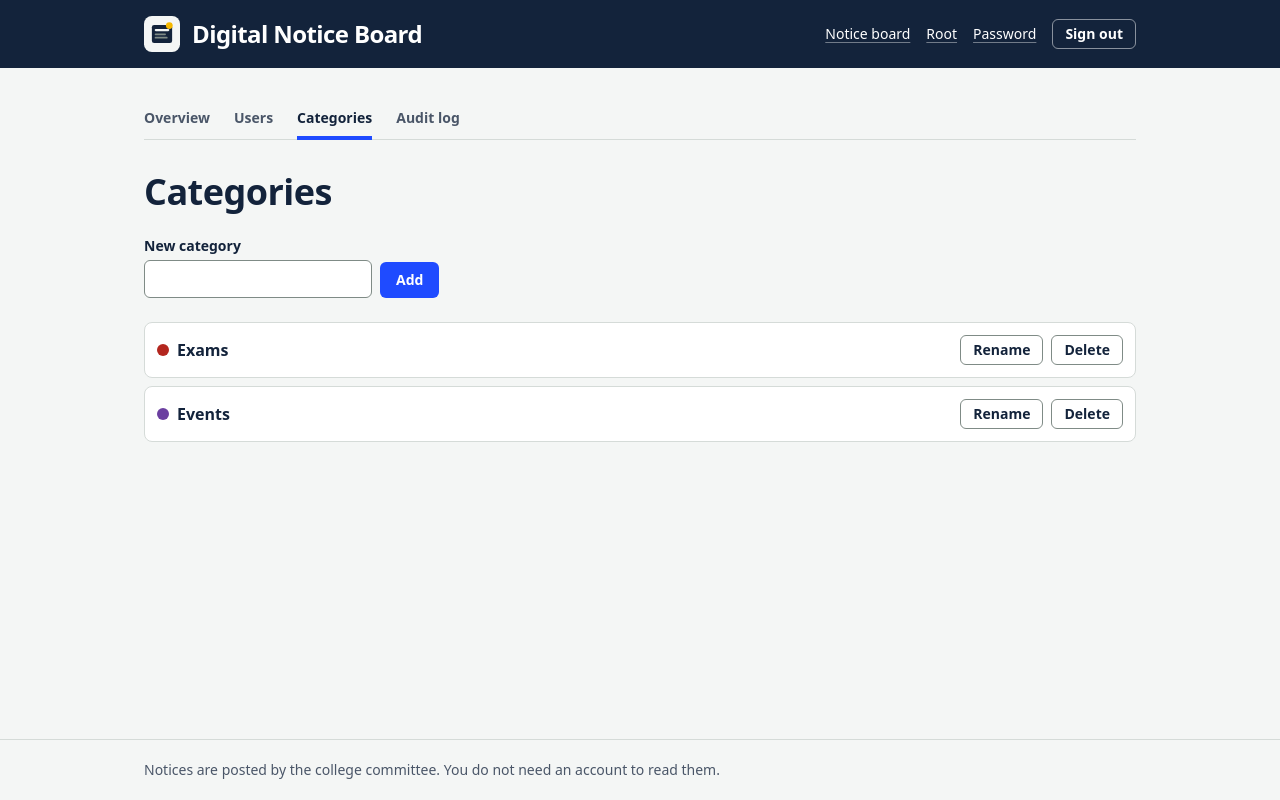
Test: categories page › shows the server's message for a duplicate name and keeps what was typed
Check: the text "Exams" is shown, box [157, 338, 228, 362]
Type "exams" into the field labelled "New category".
click(258, 279); type("exams")  # box [144, 260, 372, 298]
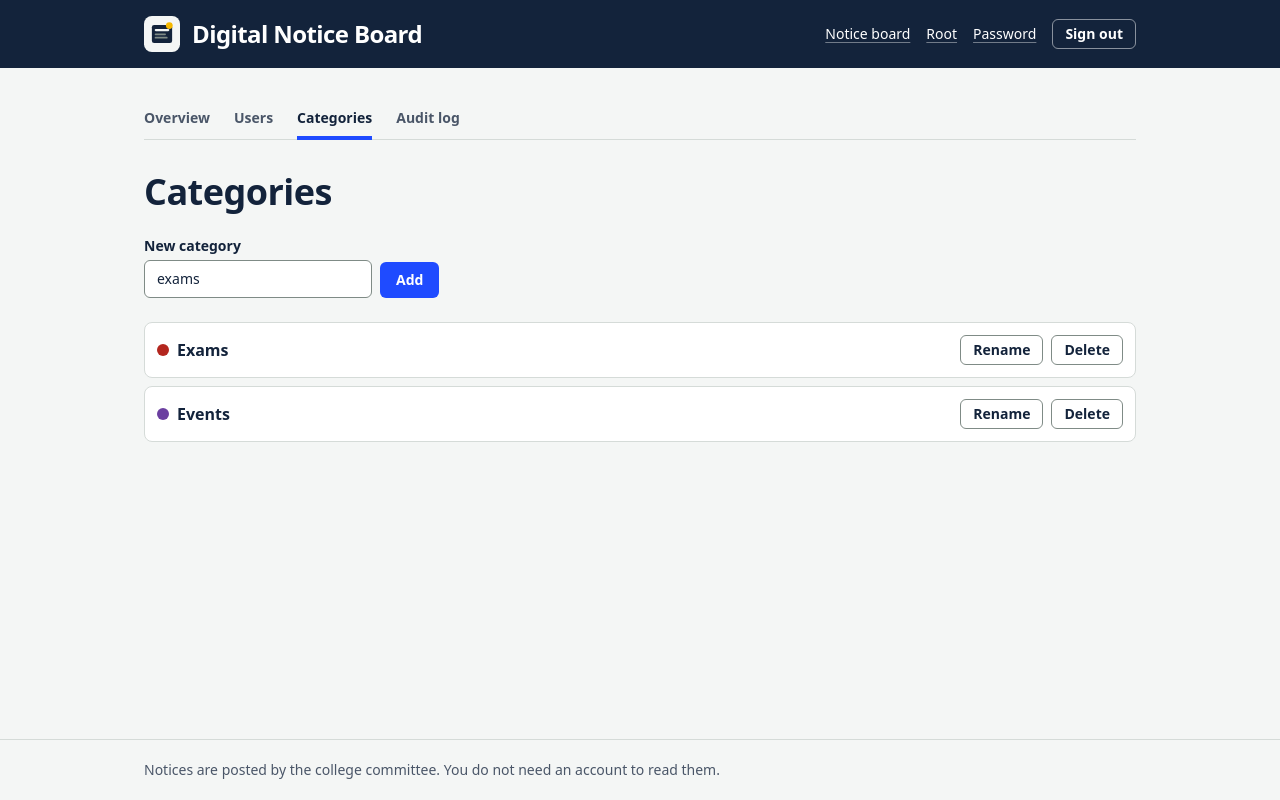
Submit the form named "Add category", box [144, 236, 439, 298]
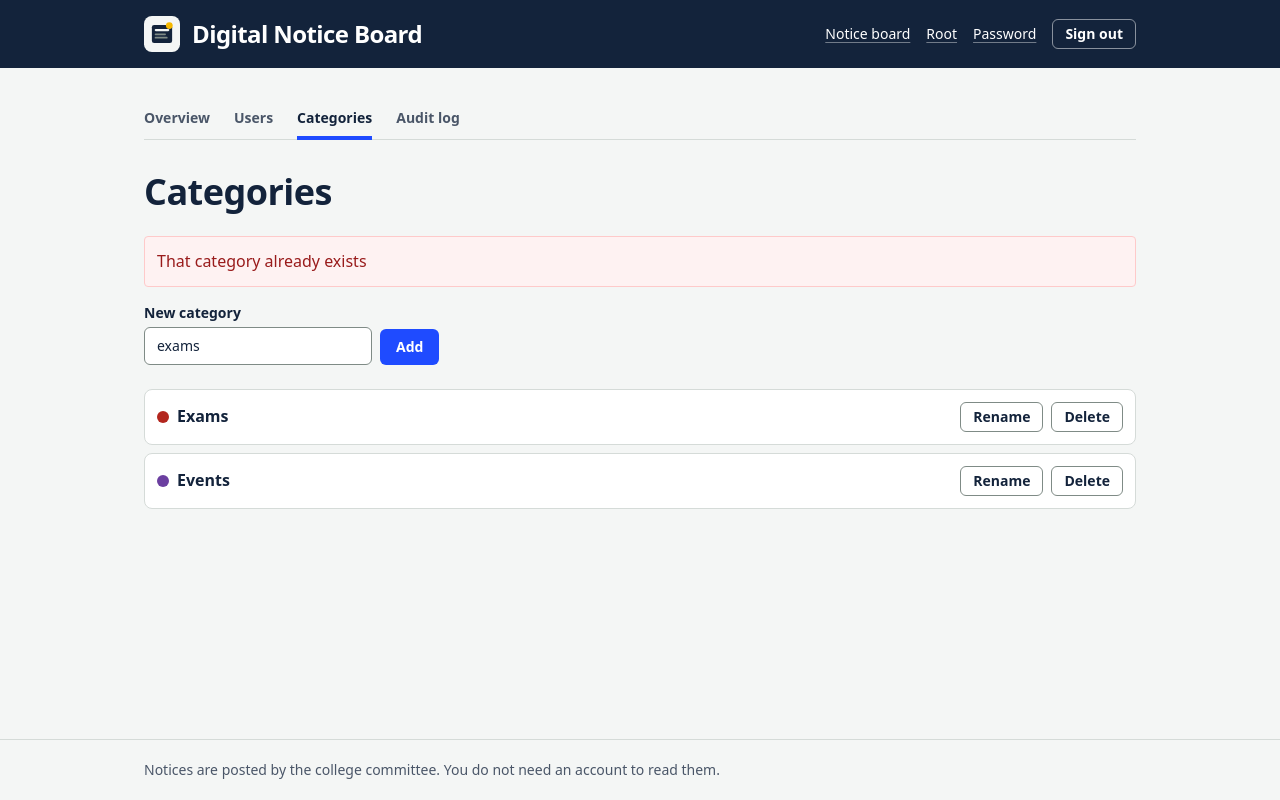
Check: the message reads "That category already exists", box [157, 250, 367, 272]
